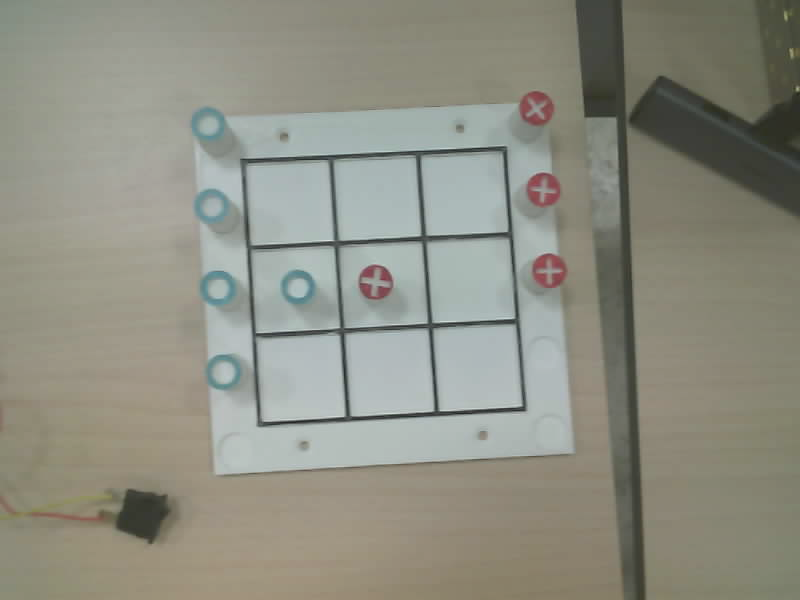blue circle: (194, 188, 229, 224), (200, 270, 235, 306), (281, 270, 315, 304), (206, 355, 240, 389), (191, 107, 225, 140)
board: (192, 92, 572, 473)
cells: (257, 334, 344, 422), (345, 329, 433, 416), (251, 246, 339, 332), (434, 325, 522, 409), (428, 238, 515, 322), (340, 242, 426, 326), (421, 151, 508, 234), (246, 161, 332, 244), (334, 156, 420, 239)
grid: (241, 146, 526, 425)
red cross: (359, 264, 393, 299), (532, 253, 566, 288), (519, 91, 553, 125), (527, 173, 560, 206)
